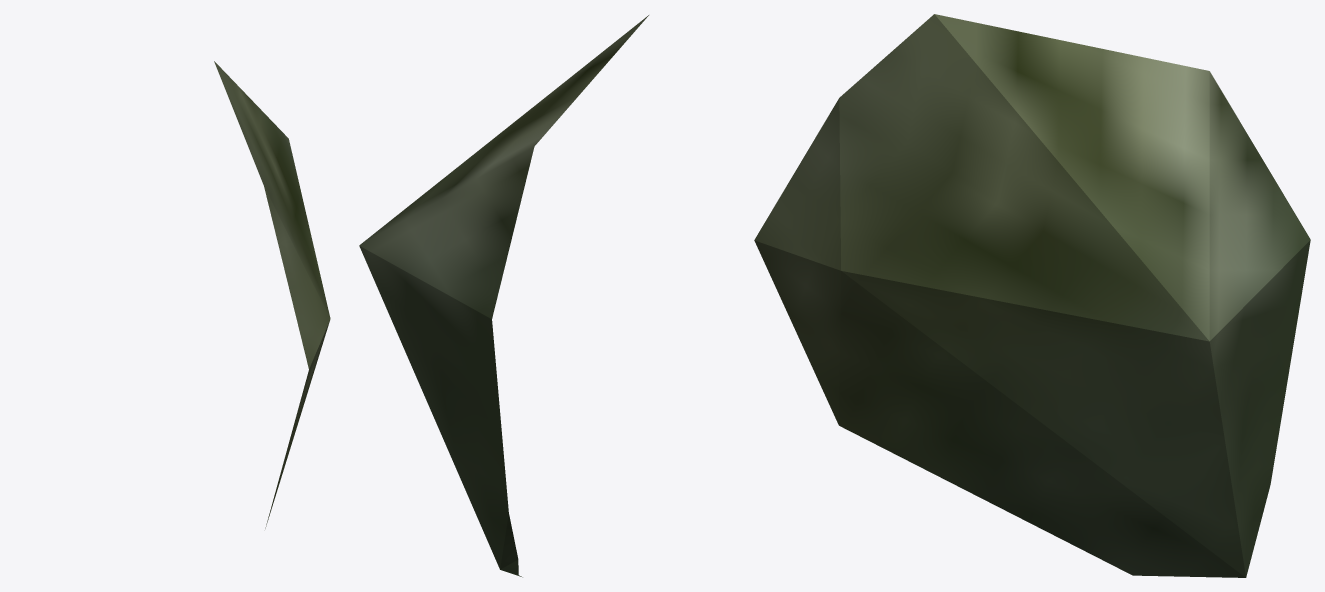
3 renders of one model, left to right at view 1: azimuth 30°, elevation 25°; view 2: azimuth 150°, elevation 25°; view 3: azimuth 270°, elevation 25°, orthographic. The views are drawn at different scales.
Size of the model in its own units: 0.0506 by 0.1301 by 0.1168.
1 material, 1 textured.
